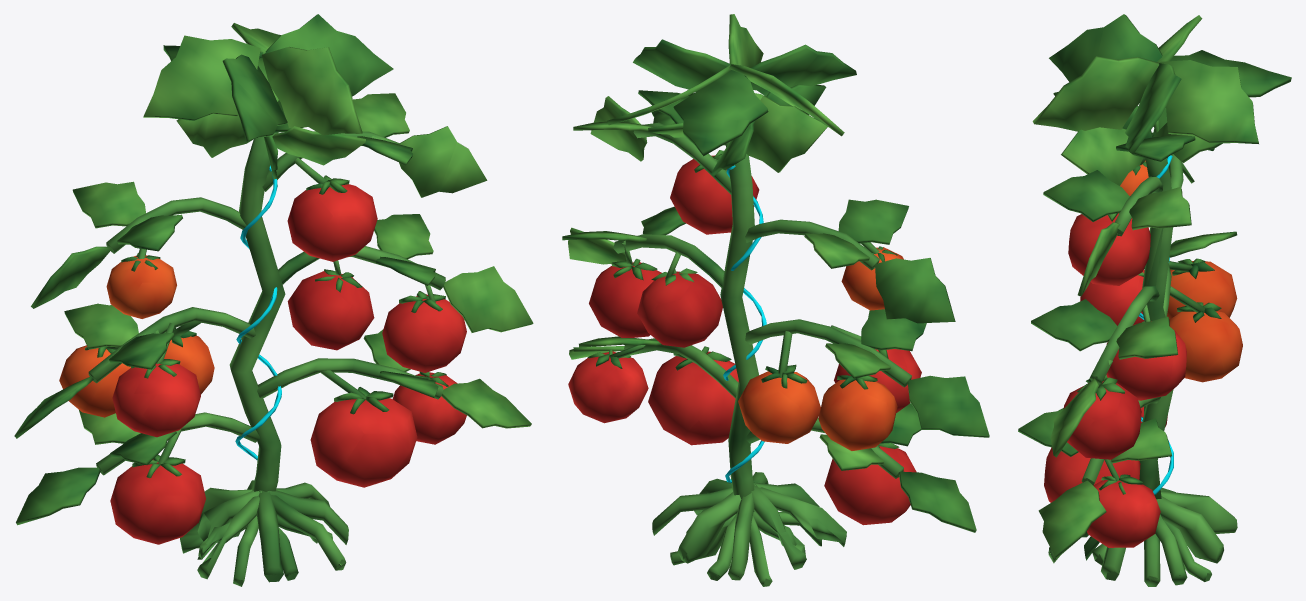
Rendered from tomato_stage_2.glb.
3 renders of one model, left to right at view 1: azimuth 30°, elevation 25°; view 2: azimuth 150°, elevation 25°; view 3: azimuth 270°, elevation 25°, orthographic.
Parts seen in each view (by area): view 1: tomato_stage_1; view 2: tomato_stage_1; view 3: tomato_stage_1.
Boxes of the visible parts, left/top/right/bottom form: tomato_stage_1: left=14, top=14, right=533, bottom=586; tomato_stage_1: left=562, top=14, right=989, bottom=586; tomato_stage_1: left=1018, top=14, right=1291, bottom=586.
Size of what is drawn, in the model's own units: 2.2 by 2.31 by 1.1.
Materials: 1 (1 with a texture image).
